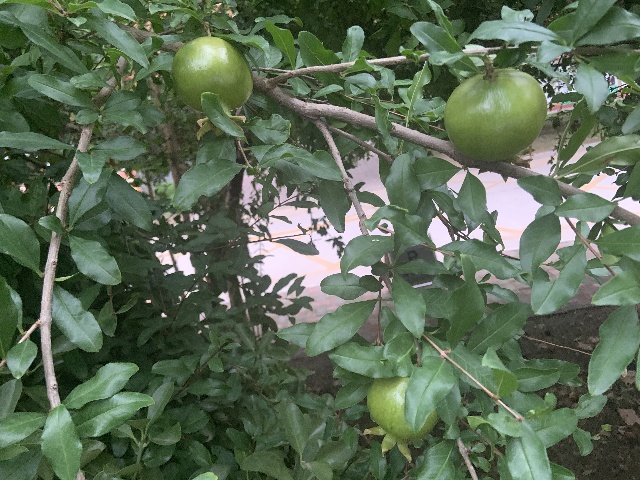mid-growth: (444, 67, 548, 183), (170, 36, 252, 140), (362, 377, 436, 462)
